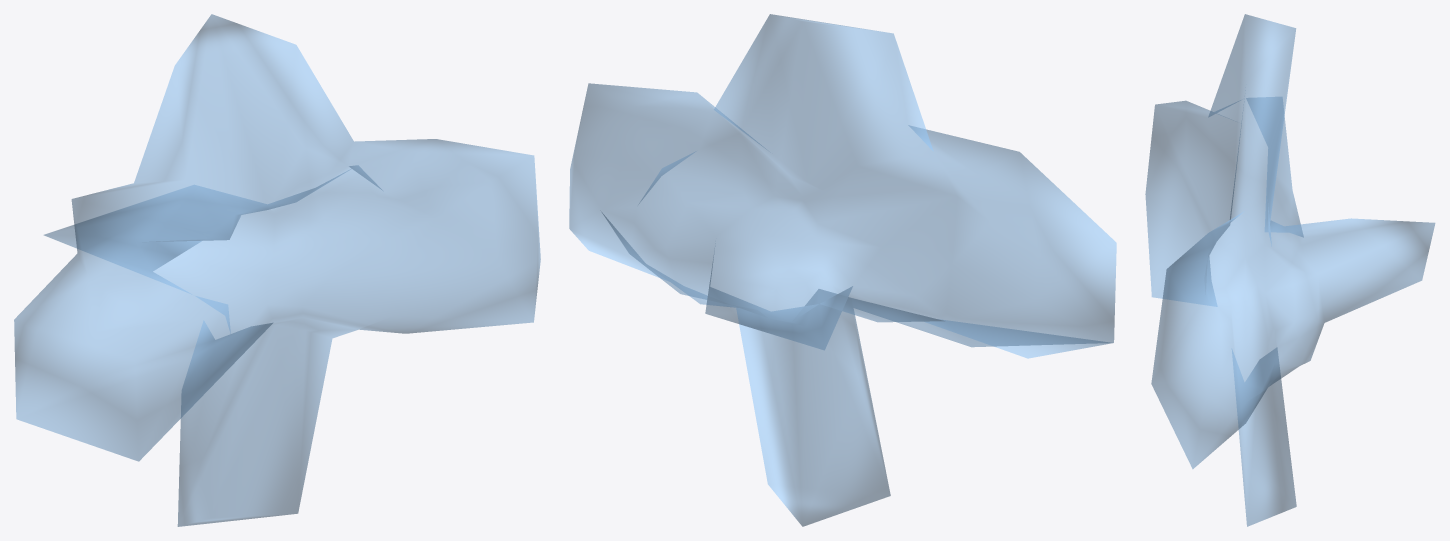
The model's file is toutpost_shield.gltf.
The picture shows the model from 3 angles, left to right: view 1: azimuth 30°, elevation 25°; view 2: azimuth 150°, elevation 25°; view 3: azimuth 270°, elevation 25°; orthographic projection. The views are drawn at different scales.
Parts seen in each view (by area): view 1: toutpost.shield; view 2: toutpost.shield; view 3: toutpost.shield.
Part boxes in pixels (x1,y1,x2,y2): toutpost.shield: [14, 14, 540, 526]; toutpost.shield: [569, 14, 1116, 526]; toutpost.shield: [1145, 14, 1435, 526].
Bounding box in the file's own units: 28.8 × 25.94 × 14.25.
